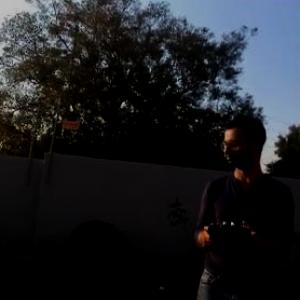follow: (184, 105, 299, 299)
